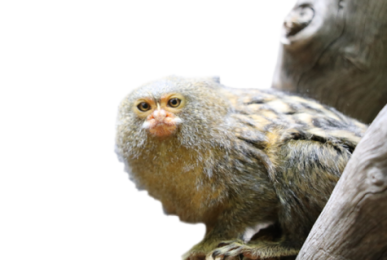PygmyMarmoset: (114, 73, 343, 218)
